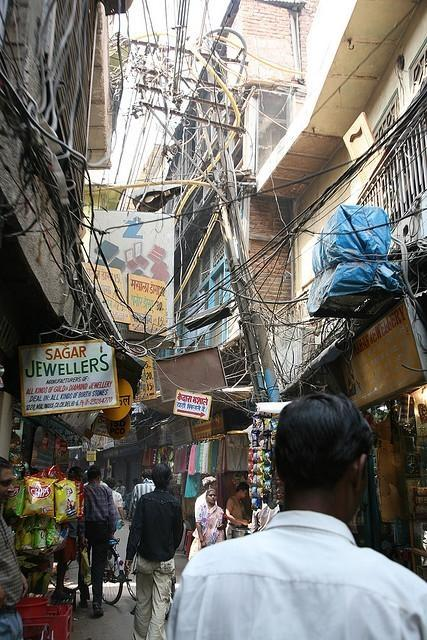bicycle: (103, 538, 132, 606), (127, 563, 136, 600)
